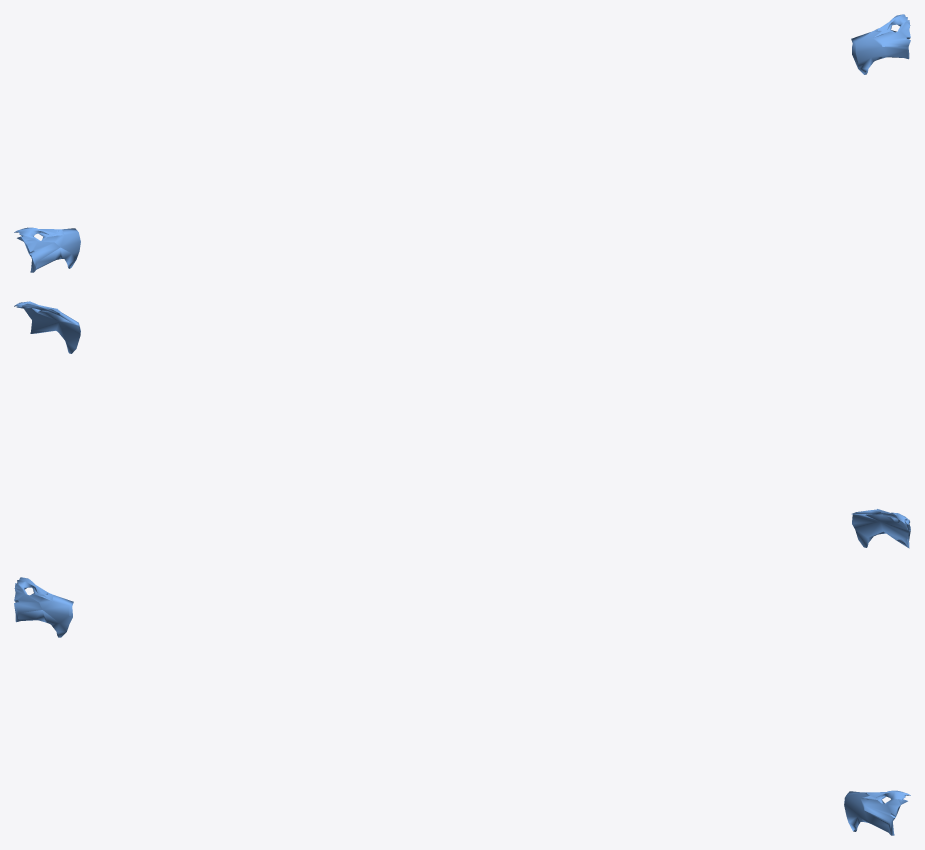
File: supplement-wrist-hand-connective.glb
The picture shows the model from 3 angles, top to bottom: view 1: azimuth 30°, elevation 25°; view 2: azimuth 150°, elevation 25°; view 3: azimuth 330°, elevation 25°; orthographic projection.
Parts seen in each view (by area): view 1: supplemental:flexor-retinaculum-of-wrist:isa:FJ1471M, supplemental:flexor-retinaculum-of-wrist:isa:FJ1471; view 2: supplemental:flexor-retinaculum-of-wrist:isa:FJ1471, supplemental:flexor-retinaculum-of-wrist:isa:FJ1471M; view 3: supplemental:flexor-retinaculum-of-wrist:isa:FJ1471, supplemental:flexor-retinaculum-of-wrist:isa:FJ1471M.
Boxes of the visible parts, x1=… form: supplemental:flexor-retinaculum-of-wrist:isa:FJ1471M: x1=851, y1=14, x2=910, y2=74; supplemental:flexor-retinaculum-of-wrist:isa:FJ1471: x1=14, y1=227, x2=80, y2=272; supplemental:flexor-retinaculum-of-wrist:isa:FJ1471: x1=851, y1=509, x2=910, y2=548; supplemental:flexor-retinaculum-of-wrist:isa:FJ1471M: x1=14, y1=301, x2=80, y2=353; supplemental:flexor-retinaculum-of-wrist:isa:FJ1471: x1=14, y1=577, x2=73, y2=637; supplemental:flexor-retinaculum-of-wrist:isa:FJ1471M: x1=844, y1=790, x2=910, y2=835.
Bounding box in the file's own units: 0.5418 × 0.027 × 0.0133.
